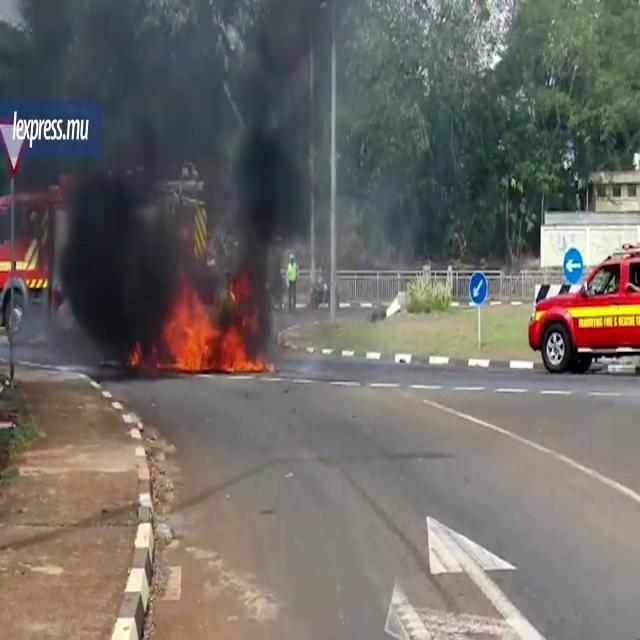Fire: (158, 286, 271, 376)
Smoke: (214, 1, 418, 328), (0, 1, 192, 343)
